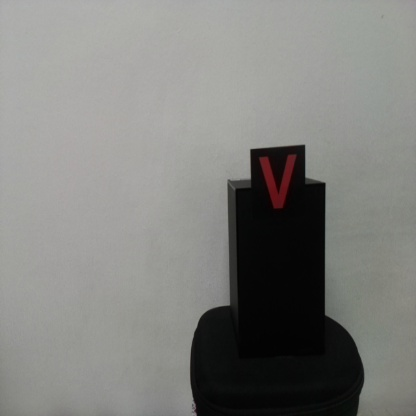id_11: (251, 149, 305, 220)
